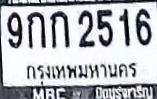1: (118, 8, 129, 46)
2: (77, 9, 94, 46)
5: (96, 9, 112, 46)
6: (135, 8, 151, 45)
9: (6, 11, 22, 48)
A01: (49, 10, 69, 48), (26, 11, 45, 48)
BKK: (24, 60, 139, 83)
